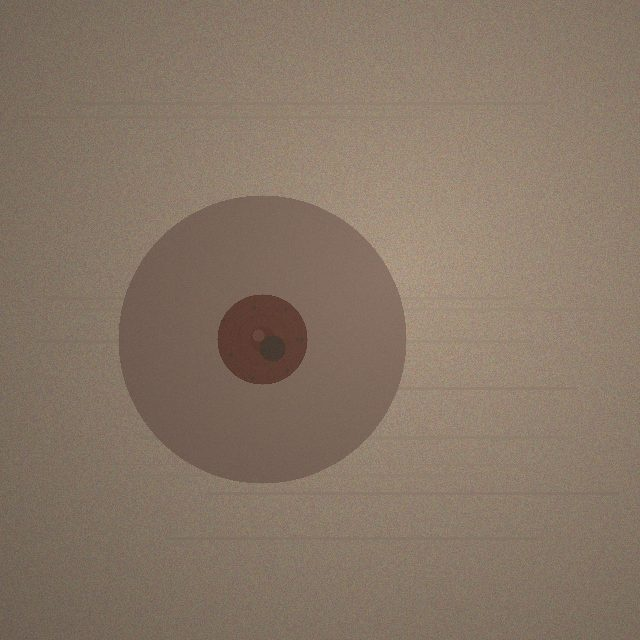cold_weld: (118, 195, 406, 483)
